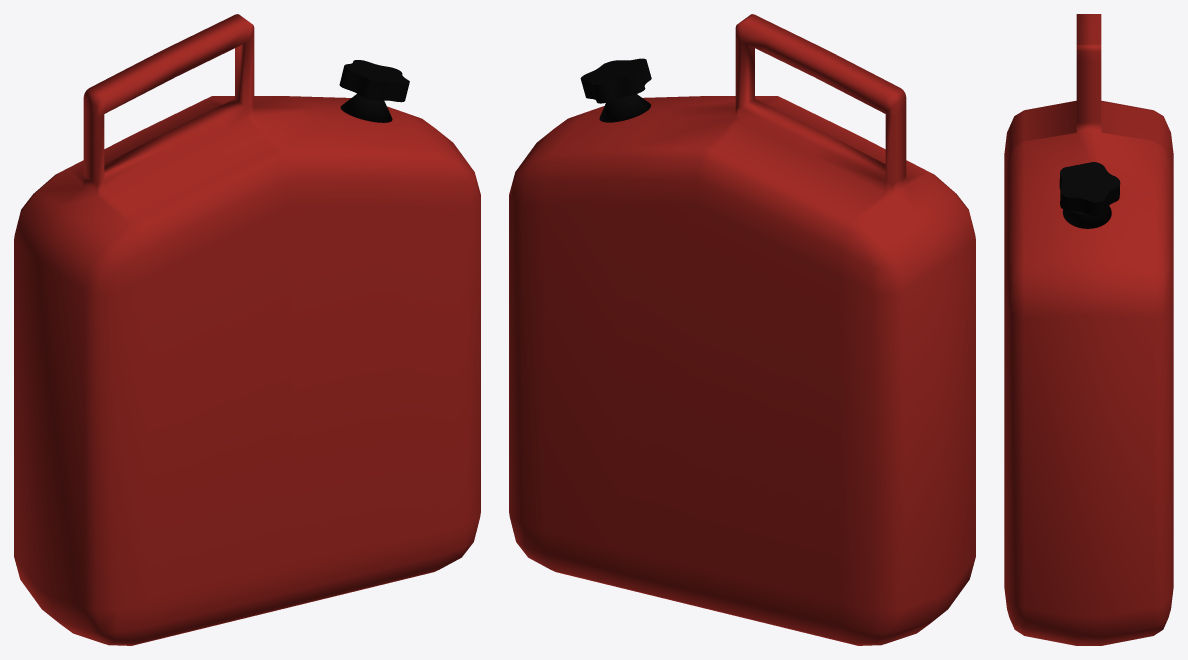
File: Canister Fertig.fbx
3 views of the same model, side by side, from view 1: azimuth 30°, elevation 25°; view 2: azimuth 150°, elevation 25°; view 3: azimuth 270°, elevation 25° (orthographic). The views are drawn at different scales.
Visible parts, largest first — view 1: Cube; view 2: Cube; view 3: Cube.
Part boxes in pixels (left/top/right/bottom): Cube: left=14, top=14, right=480, bottom=645; Cube: left=509, top=14, right=975, bottom=645; Cube: left=1004, top=14, right=1173, bottom=645.
Size of the model in its own units: 210 by 280 by 82.04.
Materials: 1 (1 with a texture image).
